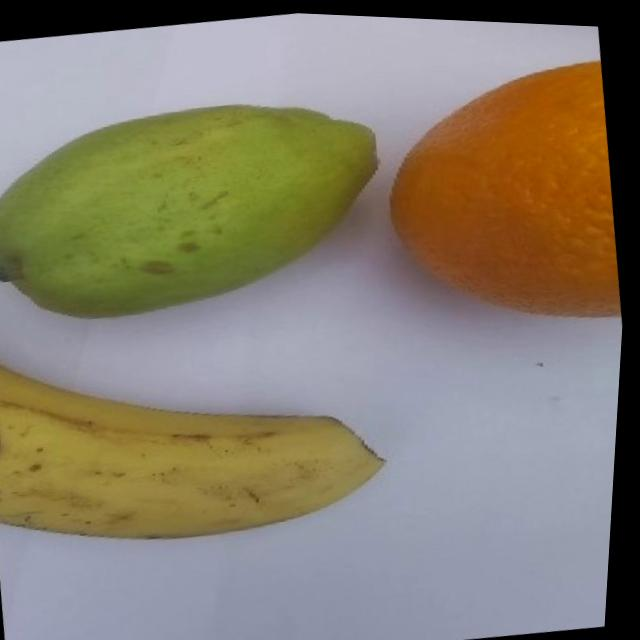Banana: (0, 298, 406, 569)
Orange: (367, 44, 636, 340)
